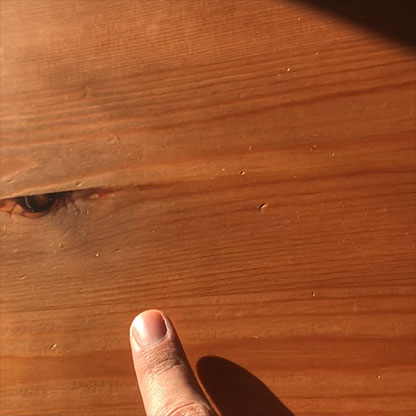fingertip: (119, 298, 186, 358)
